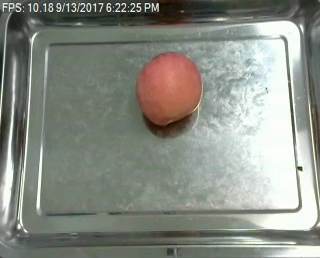Apple: (134, 48, 204, 128)
